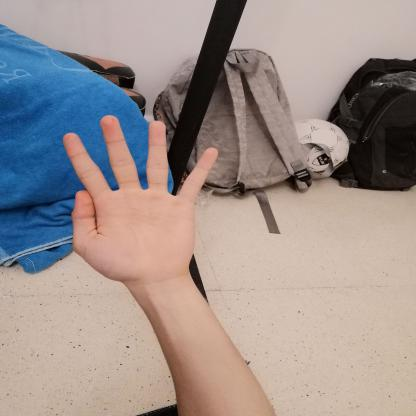SHEEN: (47, 108, 227, 292)
